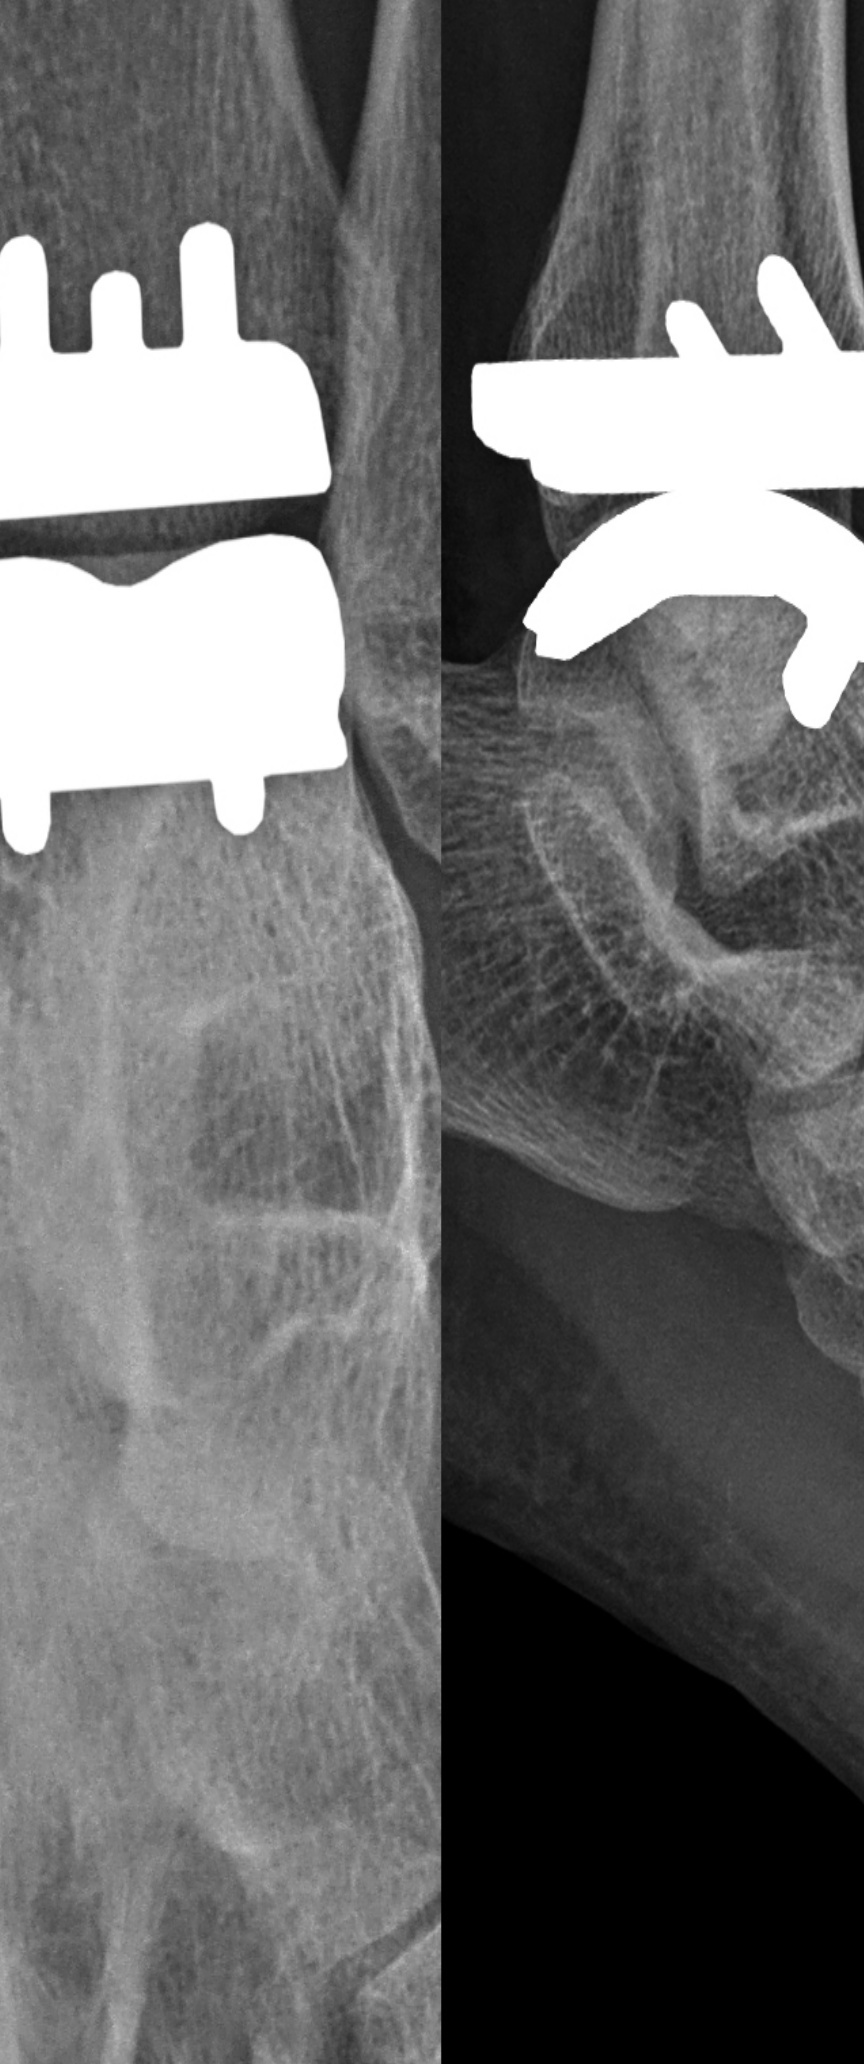Ankle - Infinity - Wright: (1, 200, 360, 875), (450, 250, 864, 756)
